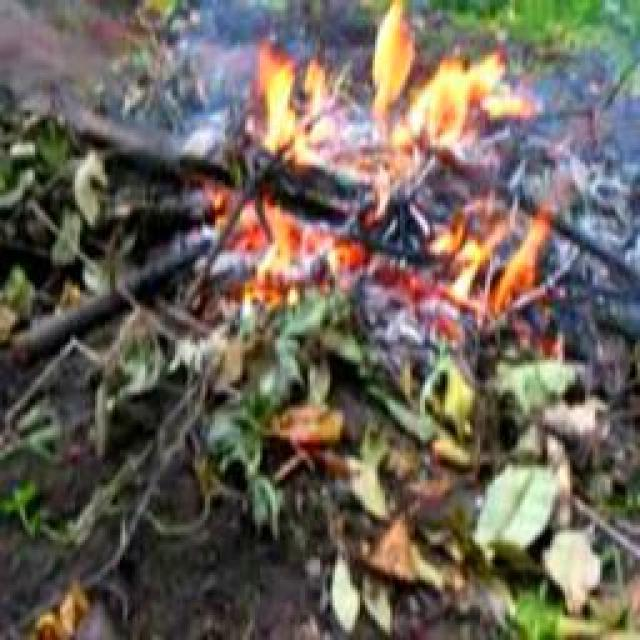Fire: (209, 15, 574, 316)
